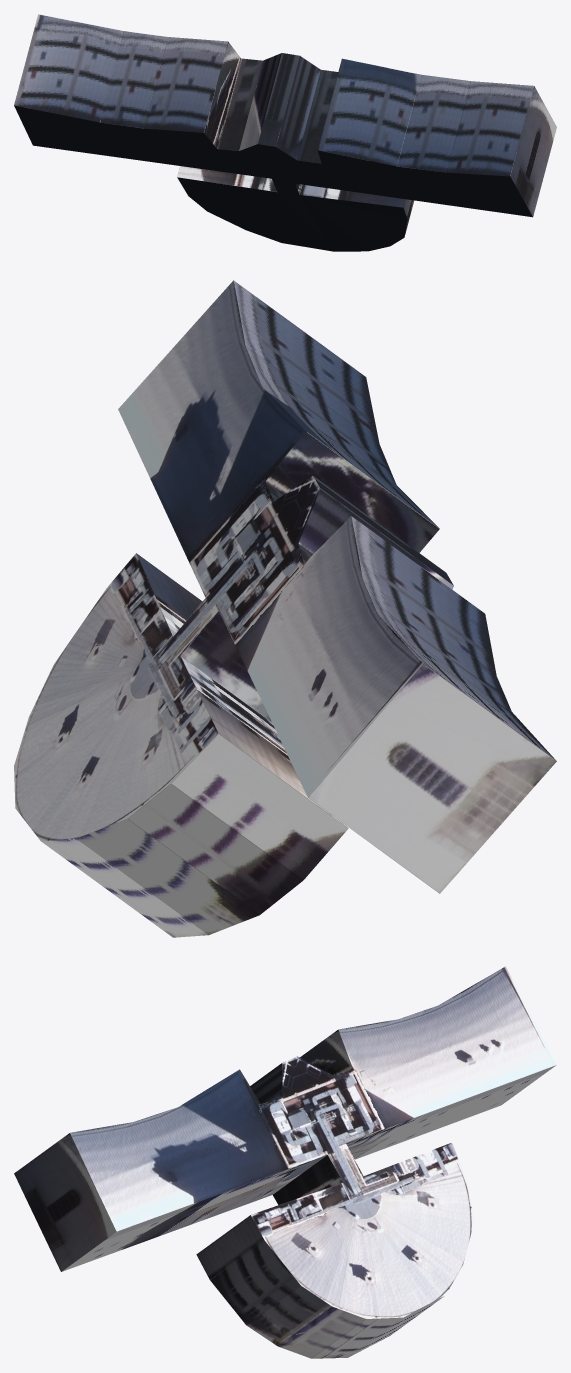
3 views of the same model, one above another, from view 1: azimuth 30°, elevation 25°; view 2: azimuth 150°, elevation 25°; view 3: azimuth 270°, elevation 25° (orthographic). The views are drawn at different scales.
Size of the model in its own units: 71.7 by 41.85 by 76.59.
1 material, 1 textured.
